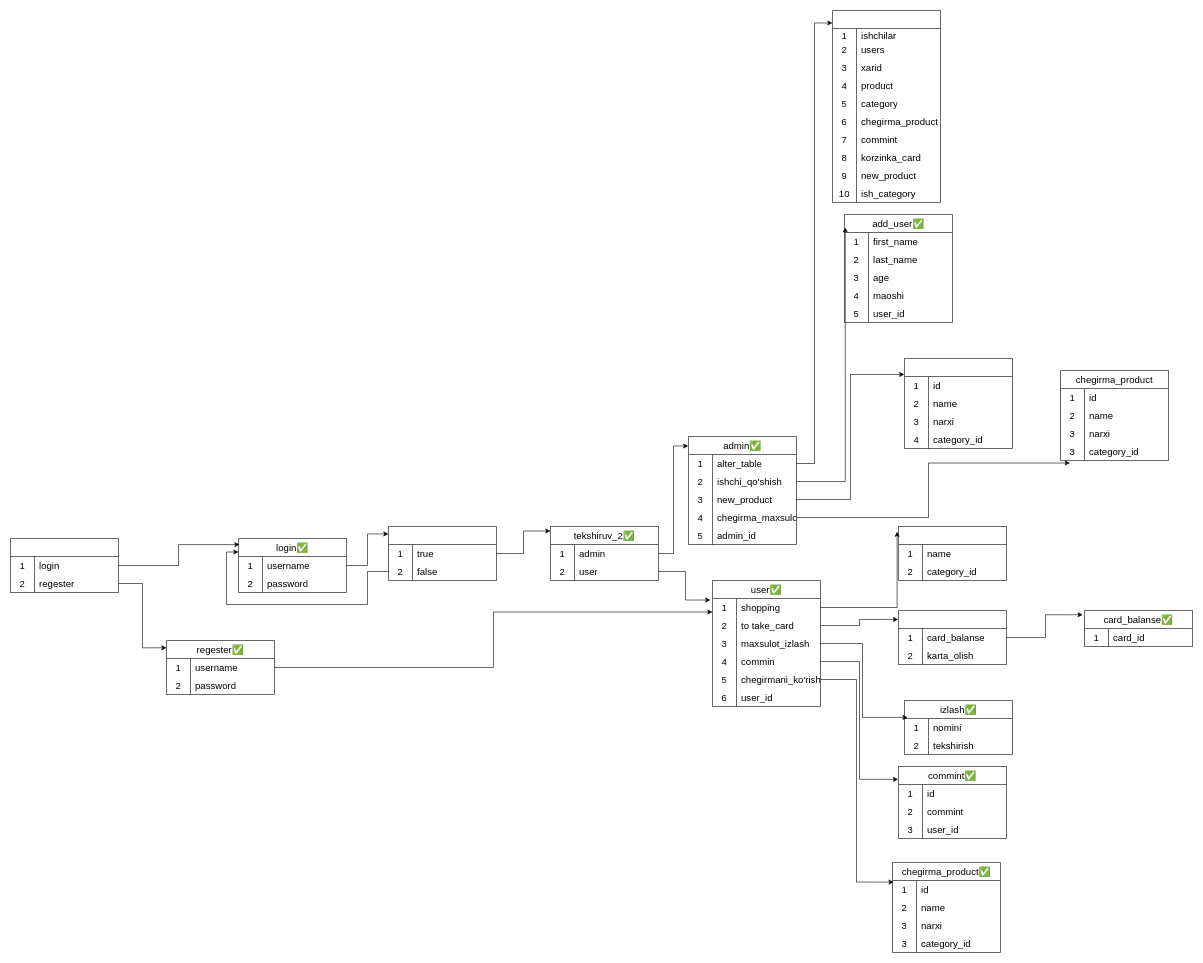
Some shapes in this 1203 by 963 pixel diagram are drawn without their labels. The box of each missing label's shape, as (x1, y1, x2, y2) in pixels:
alter_table✅: (832, 10, 940, 202)
kirish✅: (10, 538, 118, 592)
new_product✅: (904, 358, 1012, 448)
shopping✅: (898, 526, 1006, 580)
tekshirish✅: (388, 526, 496, 580)
to take_card✅: (898, 610, 1006, 664)
